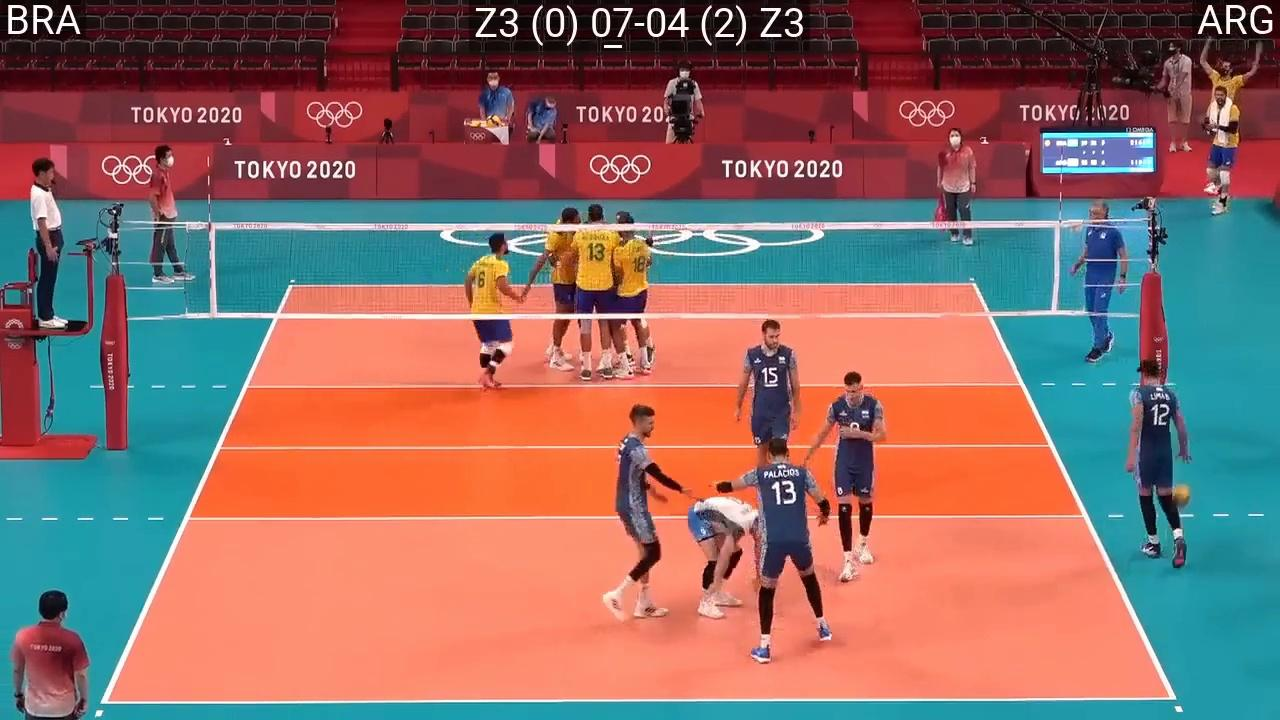ball: (1172, 483, 1191, 507)
